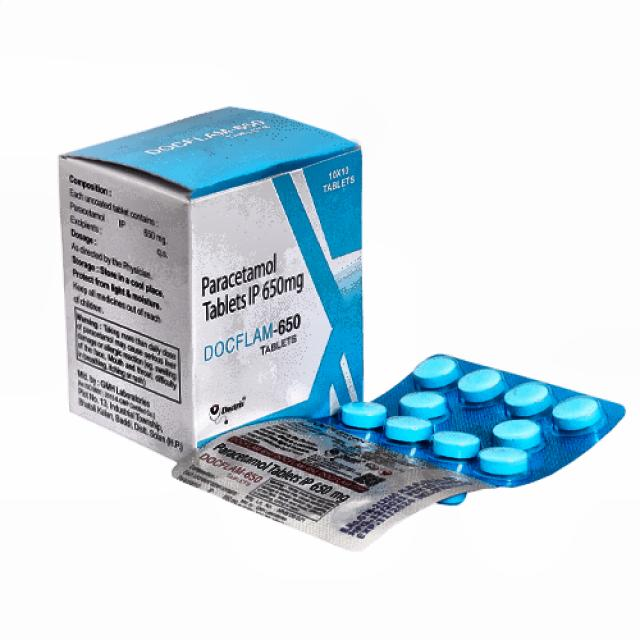Paracetamol: (189, 202, 344, 374)
